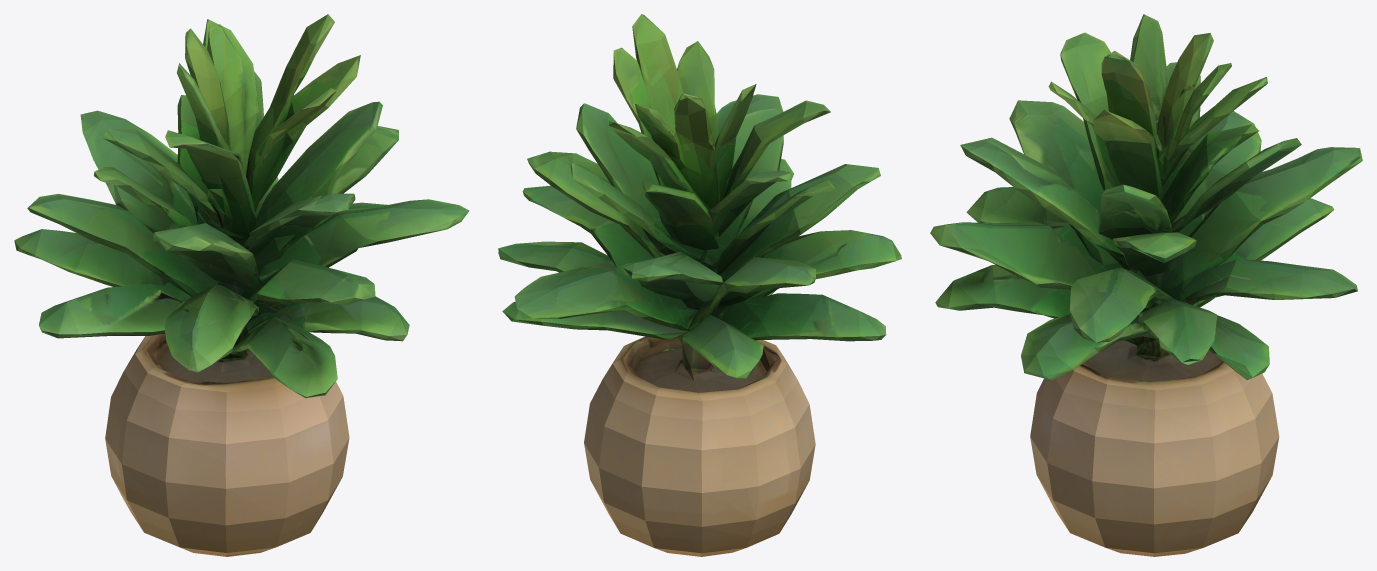
The model's file is Low_poly_indoor_plant_0625165523_texture.fbx.
The picture shows the model from 3 angles, left to right: view 1: azimuth 30°, elevation 25°; view 2: azimuth 150°, elevation 25°; view 3: azimuth 270°, elevation 25°; orthographic projection. The views are drawn at different scales.
Parts seen in each view (by area): view 1: temp; view 2: temp; view 3: temp.
Part boxes in pixels (x1,y1,x2,y2): temp: (14, 14, 469, 556); temp: (498, 14, 901, 556); temp: (930, 14, 1362, 556).
Bounding box in the file's own units: 166 × 201 × 151.
1 material, 1 textured.
